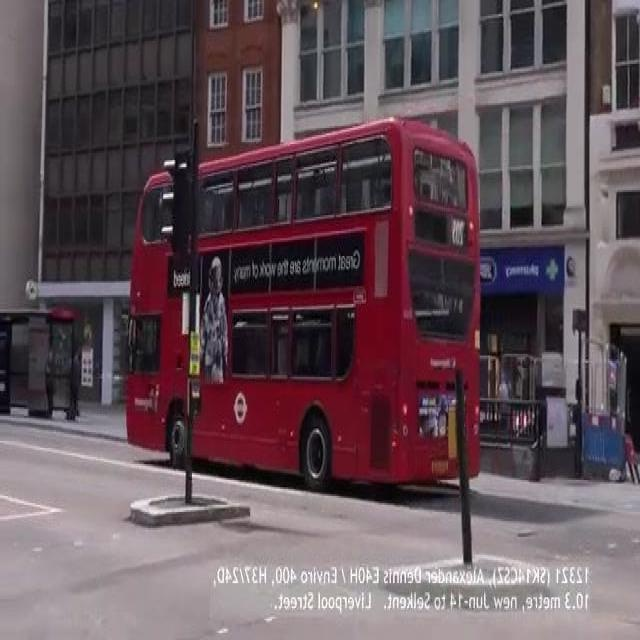bus: (83, 108, 506, 503)
